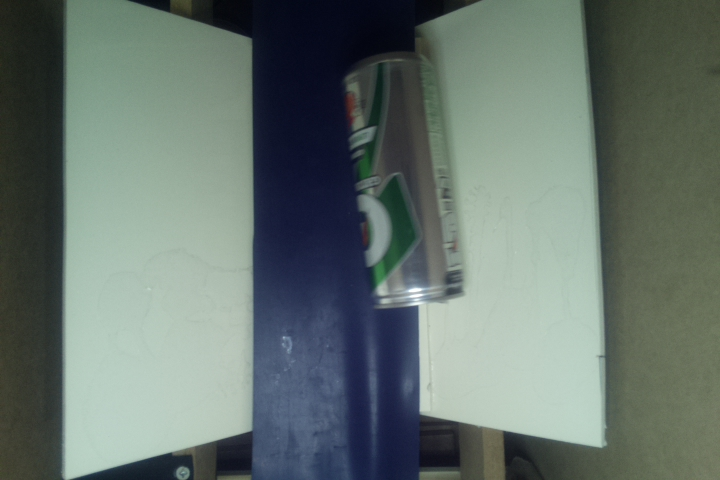can: (339, 51, 464, 309)
